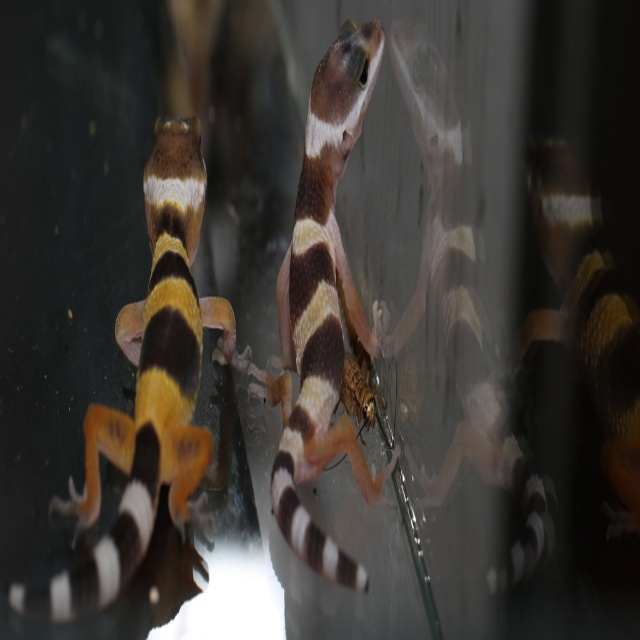Lizard: (12, 91, 246, 596), (258, 0, 411, 546)
